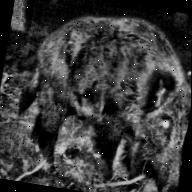boar: (6, 1, 192, 192)
